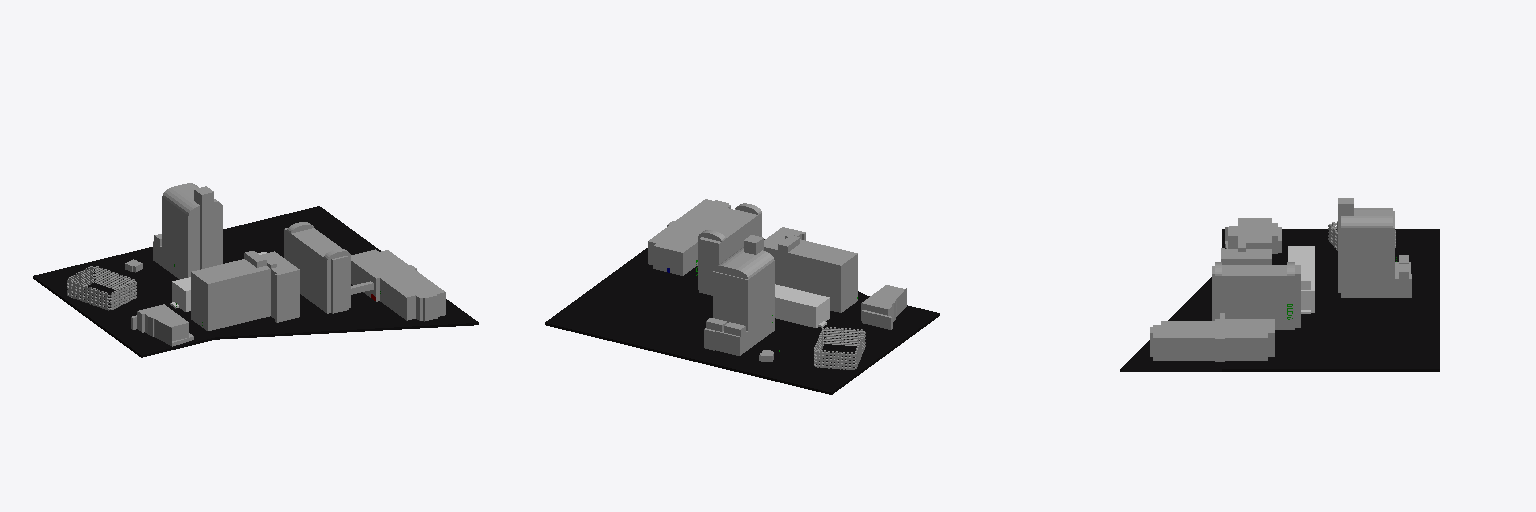
File: free_map11.obj
3 views of the same model, side by side, from view 1: azimuth 30°, elevation 25°; view 2: azimuth 150°, elevation 25°; view 3: azimuth 270°, elevation 25° (orthographic).
Parts seen in each view (by area): view 1: Cube.009, Cube.004, Cube.006, Cube.001, Cube.002, Cube.008, Cube.005, Cube.003; view 2: Cube.009, Cube.006, Cube.004, Cube.001, Cube.002, Cube.003, Cube.008, Cube.005; view 3: Cube.009, Cube.006, Cube.001, Cube.002, Cube.004, Cube.003, Cube.005.
Part boxes in pixels (x1,y1,x2,y2): Cube.009: (33, 206, 478, 357); Cube.004: (191, 251, 299, 330); Cube.006: (153, 183, 222, 279); Cube.001: (351, 249, 445, 321); Cube.002: (284, 222, 350, 313); Cube.008: (67, 266, 136, 310); Cube.005: (131, 304, 193, 346); Cube.003: (170, 252, 266, 311); Cube.009: (545, 239, 939, 394); Cube.006: (704, 235, 774, 355); Cube.004: (764, 227, 857, 312); Cube.001: (648, 199, 733, 275); Cube.002: (698, 203, 761, 295); Cube.003: (775, 284, 829, 327); Cube.008: (814, 327, 865, 369); Cube.005: (861, 285, 906, 329); Cube.009: (1120, 229, 1439, 371); Cube.006: (1338, 198, 1411, 297); Cube.001: (1150, 313, 1274, 361); Cube.002: (1212, 262, 1300, 329); Cube.004: (1221, 218, 1271, 264); Cube.003: (1288, 246, 1314, 313); Cube.005: (1225, 223, 1281, 253).
Bounding box in the file's own units: 246 × 75.13 × 237.